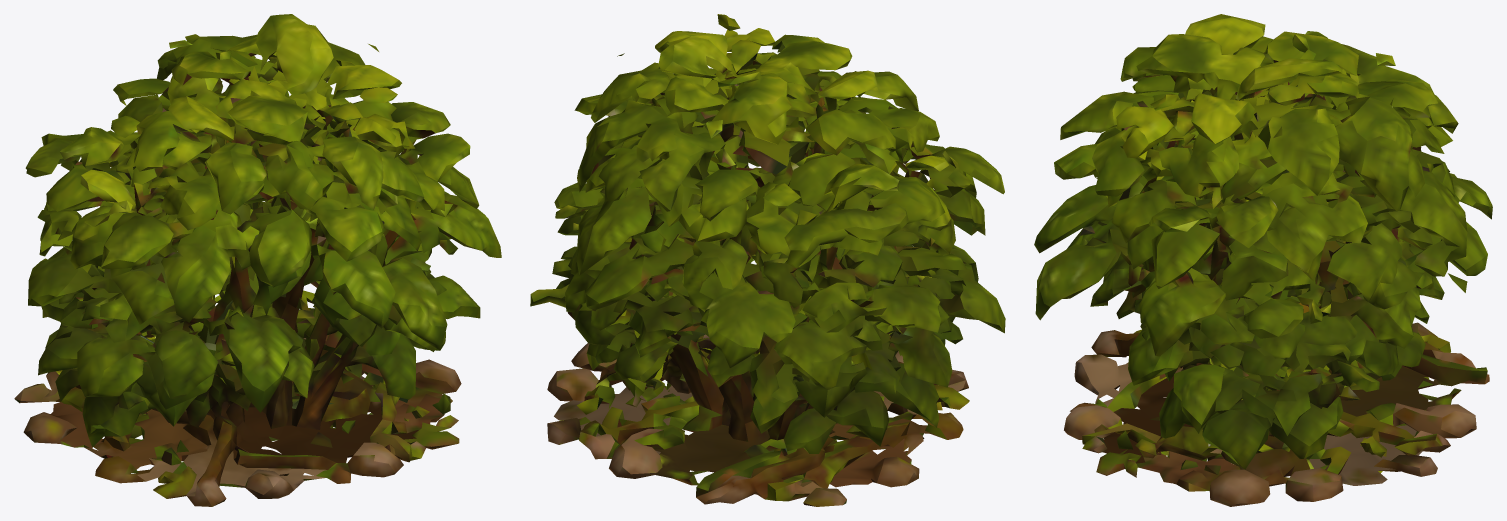
The model's file is Bush.glb.
3 views of the same model, side by side, from view 1: azimuth 30°, elevation 25°; view 2: azimuth 150°, elevation 25°; view 3: azimuth 270°, elevation 25° (orthographic). The views are drawn at different scales.
Size of the model in its own units: 1.99 by 1.74 by 1.88.
1 material, 1 textured.
